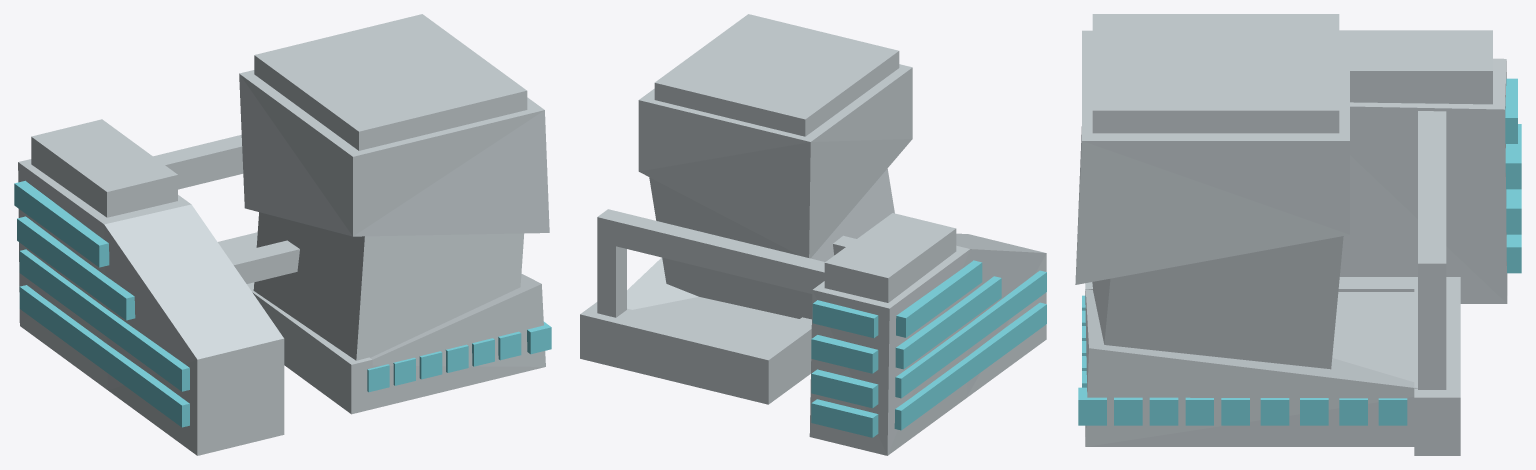
File: building 3.fbx
The picture shows the model from 3 angles, left to right: view 1: azimuth 30°, elevation 25°; view 2: azimuth 150°, elevation 25°; view 3: azimuth 270°, elevation 25°; orthographic projection. The views are drawn at different scales.
Parts seen in each view (by area): view 1: mesh_1857300205, mesh_1300847879, mesh_140971480, mesh_1305958874, mesh_1525942095, mesh_1109927783, mesh_165037425, mesh_1732682083, mesh_1909623215, mesh_1923731067, mesh_1691568240, mesh_1458805500 (+9 smaller); view 2: mesh_1300847879, mesh_1305958874, mesh_1857300205, mesh_1016780068, mesh_140971480, mesh_1458805500, mesh_1109927783, mesh_1525942095, mesh_165037425, mesh_1732682083, mesh_1923731067, mesh_1691568240 (+6 smaller); view 3: mesh_1300847879, mesh_1305958874, mesh_1525942095, mesh_1857300205, mesh_140971480, mesh_1109927783, mesh_1458805500, mesh_1016780068, mesh_877721812, mesh_1909623215, mesh_1013320815, mesh_1063735724 (+11 smaller).
Part boxes in pixels (left/top/right/bottom): mesh_1857300205: left=18, top=159, right=284, bottom=455; mesh_1300847879: left=239, top=70, right=549, bottom=236; mesh_140971480: left=253, top=212, right=524, bottom=360; mesh_1305958874: left=254, top=14, right=527, bottom=150; mesh_1525942095: left=359, top=273, right=545, bottom=412; mesh_1109927783: left=31, top=119, right=177, bottom=217; mesh_165037425: left=19, top=285, right=189, bottom=427; mesh_1732682083: left=19, top=249, right=189, bottom=391; mesh_1909623215: left=224, top=251, right=372, bottom=414; mesh_1923731067: left=17, top=216, right=135, bottom=320; mesh_1691568240: left=14, top=180, right=109, bottom=267; mesh_1458805500: left=153, top=135, right=243, bottom=189; mesh_1300847879: left=638, top=64, right=912, bottom=258; mesh_1305958874: left=654, top=14, right=899, bottom=136; mesh_1857300205: left=809, top=233, right=1046, bottom=455; mesh_1016780068: left=580, top=302, right=786, bottom=404; mesh_140971480: left=649, top=169, right=894, bottom=319; mesh_1458805500: left=597, top=209, right=824, bottom=293; mesh_1109927783: left=824, top=213, right=956, bottom=302; mesh_1525942095: left=627, top=257, right=799, bottom=342; mesh_165037425: left=894, top=302, right=1046, bottom=430; mesh_1732682083: left=895, top=270, right=1046, bottom=398; mesh_1923731067: left=895, top=276, right=1001, bottom=369; mesh_1691568240: left=896, top=260, right=982, bottom=337; mesh_1300847879: left=1075, top=30, right=1349, bottom=284; mesh_1305958874: left=1092, top=14, right=1339, bottom=133; mesh_1525942095: left=1085, top=289, right=1417, bottom=446; mesh_1857300205: left=1339, top=58, right=1507, bottom=303; mesh_140971480: left=1092, top=236, right=1343, bottom=369; mesh_1109927783: left=1339, top=30, right=1492, bottom=104; mesh_1458805500: left=1418, top=111, right=1446, bottom=296; mesh_1016780068: left=1414, top=277, right=1460, bottom=455; mesh_877721812: left=1418, top=283, right=1446, bottom=389; mesh_1909623215: left=1085, top=277, right=1417, bottom=294; mesh_1013320815: left=1078, top=387, right=1106, bottom=425; mesh_1063735724: left=1149, top=397, right=1178, bottom=425.
Size of the model in its own units: 143 by 103 by 125.
